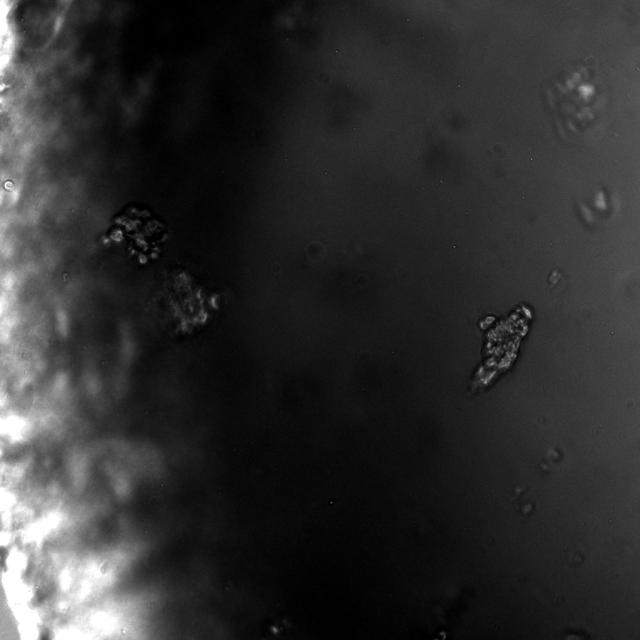organoid: (469, 303, 532, 393), (542, 58, 608, 140), (158, 267, 220, 336), (102, 202, 168, 264)
